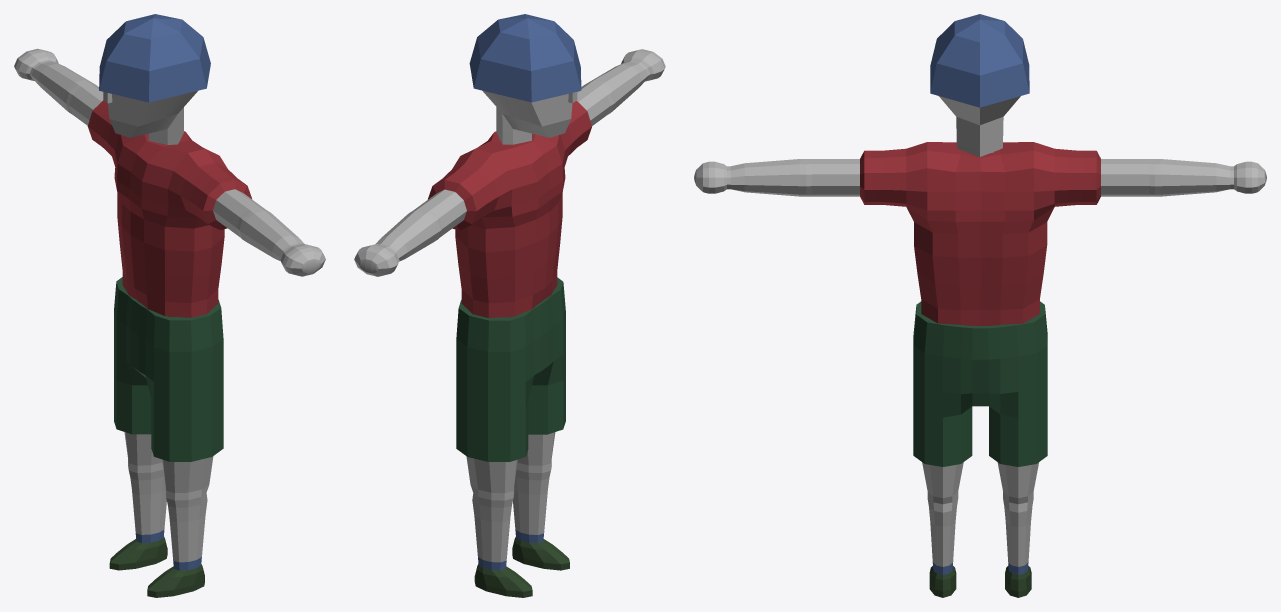
The model's file is PowerMan01Test.fbx.
The picture shows the model from 3 angles, left to right: view 1: azimuth 30°, elevation 25°; view 2: azimuth 150°, elevation 25°; view 3: azimuth 270°, elevation 25°; orthographic projection.
Visible parts, largest first — view 1: PowerMan; view 2: PowerMan; view 3: PowerMan.
Part boxes in pixels (x1,y1,x2,y2): PowerMan: [14, 14, 325, 597]; PowerMan: [354, 14, 665, 597]; PowerMan: [694, 14, 1266, 597].
Size of the model in its own units: 2.24 by 10.67 by 9.86.
